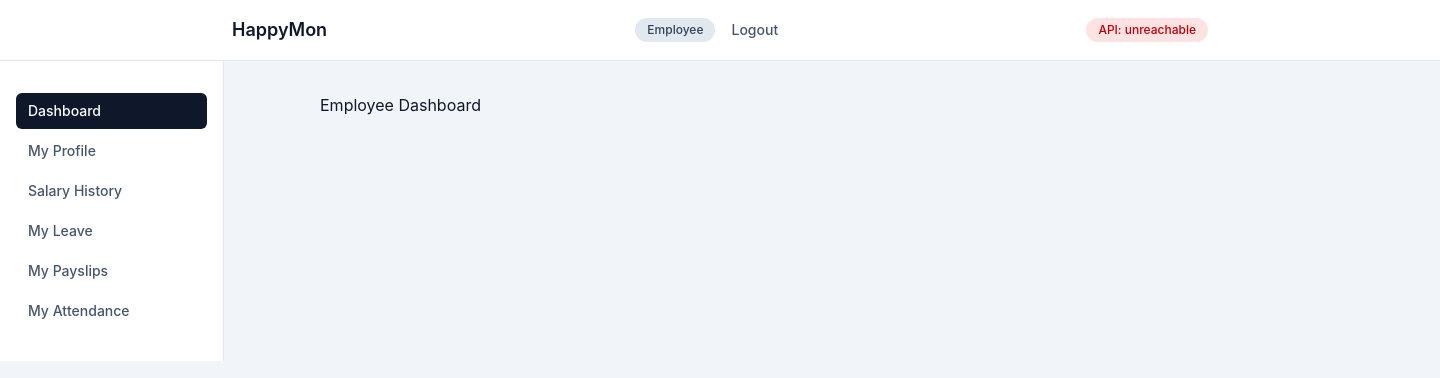
Scenario: AppLayout › EMPLOYEE › navigates to /employee/payslips via the sidebar My Payslips link
Step 1. Click the link "My Payslips" → (68, 270), box top-left (28, 262), bottom-right (108, 279)
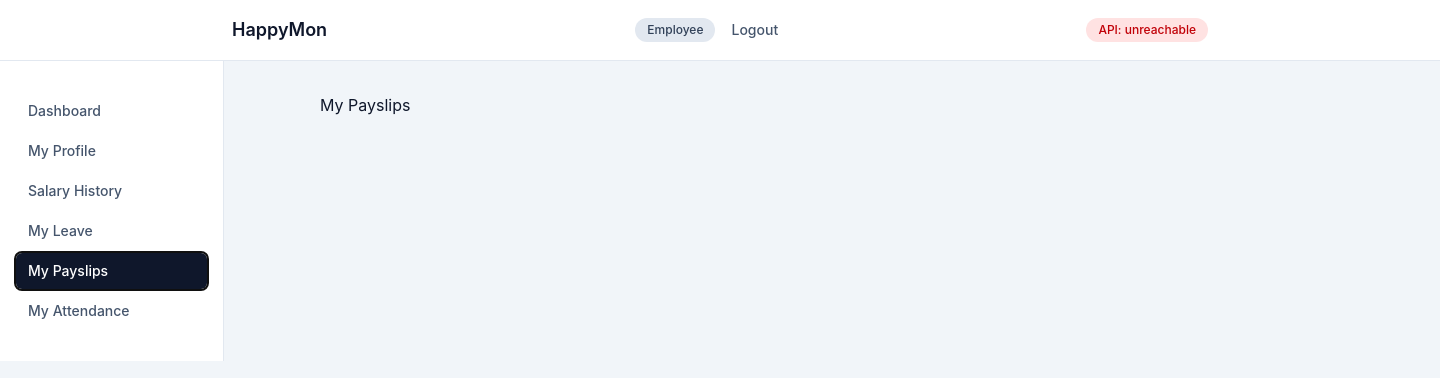
expect the heading "My Payslips" is shown: met, box top-left (320, 95), bottom-right (410, 115)
